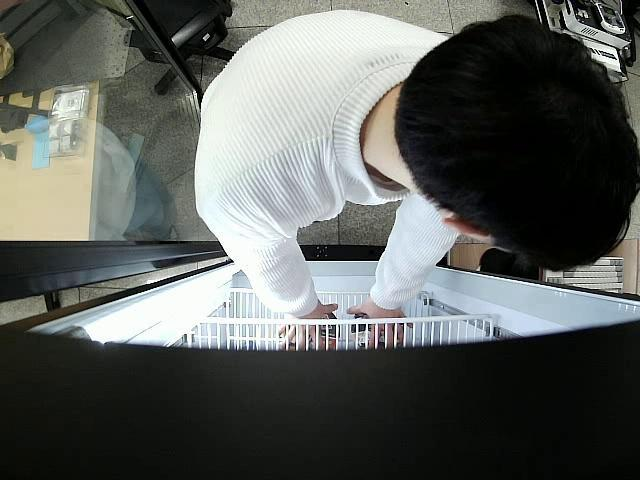07_buldak_L: (281, 312, 342, 352), (352, 310, 405, 351)
